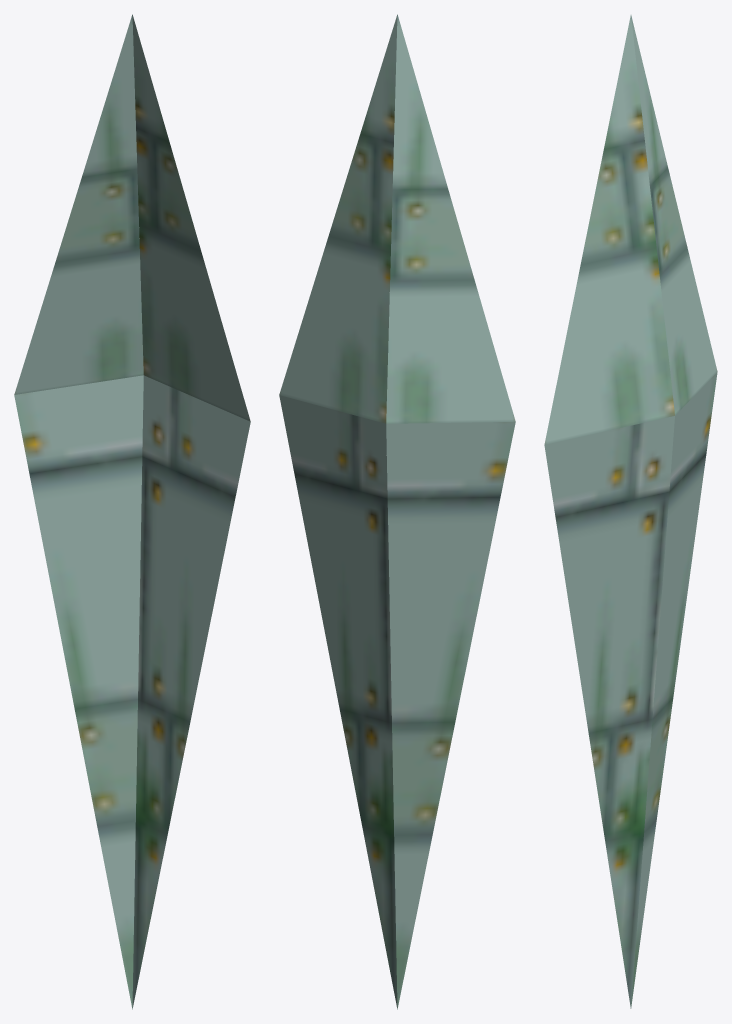
File: Eckverschluß [TürkisesMetall]_1660.glb
3 renders of one model, left to right at view 1: azimuth 30°, elevation 25°; view 2: azimuth 210°, elevation 25°; view 3: azimuth 270°, elevation 25°, orthographic.
Parts seen in each view (by area): view 1: pPlaneShape11, pPlaneShape10, pPlaneShape8, pPlaneShape9; view 2: pPlaneShape11, pPlaneShape10, pPlaneShape8, pPlaneShape9; view 3: pPlaneShape10, pPlaneShape9, pPlaneShape11, pPlaneShape8.
Boxes of the visible parts, box(x1,y1,x2,y2) form: pPlaneShape11: box(14, 375, 143, 1009); pPlaneShape10: box(132, 375, 250, 1007); pPlaneShape8: box(14, 14, 143, 394); pPlaneShape9: box(132, 15, 250, 421); pPlaneShape11: box(386, 421, 515, 1009); pPlaneShape10: box(279, 395, 397, 1007); pPlaneShape8: box(386, 14, 515, 423); pPlaneShape9: box(279, 15, 397, 423); pPlaneShape10: box(544, 416, 674, 1008); pPlaneShape9: box(544, 15, 674, 444); pPlaneShape11: box(631, 372, 717, 1008); pPlaneShape8: box(631, 15, 717, 415).
Bounding box in the file's own units: 0.0549 × 0.3486 × 0.0549.
Materials: 4 (4 with a texture image).
